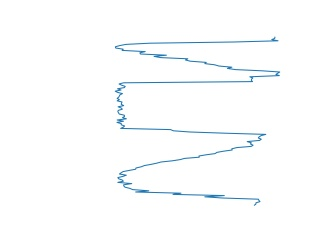distributaryChannelFill: (112, 78, 269, 139)
mouthBar: (113, 34, 280, 76)
underwaterDistributaryChannel: (114, 136, 270, 208)
